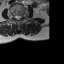CCS_stenosis: (17, 13, 19, 22)
LFS_normal: (21, 13, 23, 19)
LLS_normal: (19, 14, 21, 20)
RFS_normal: (12, 13, 15, 20)
RLS_normal: (15, 14, 17, 20)
